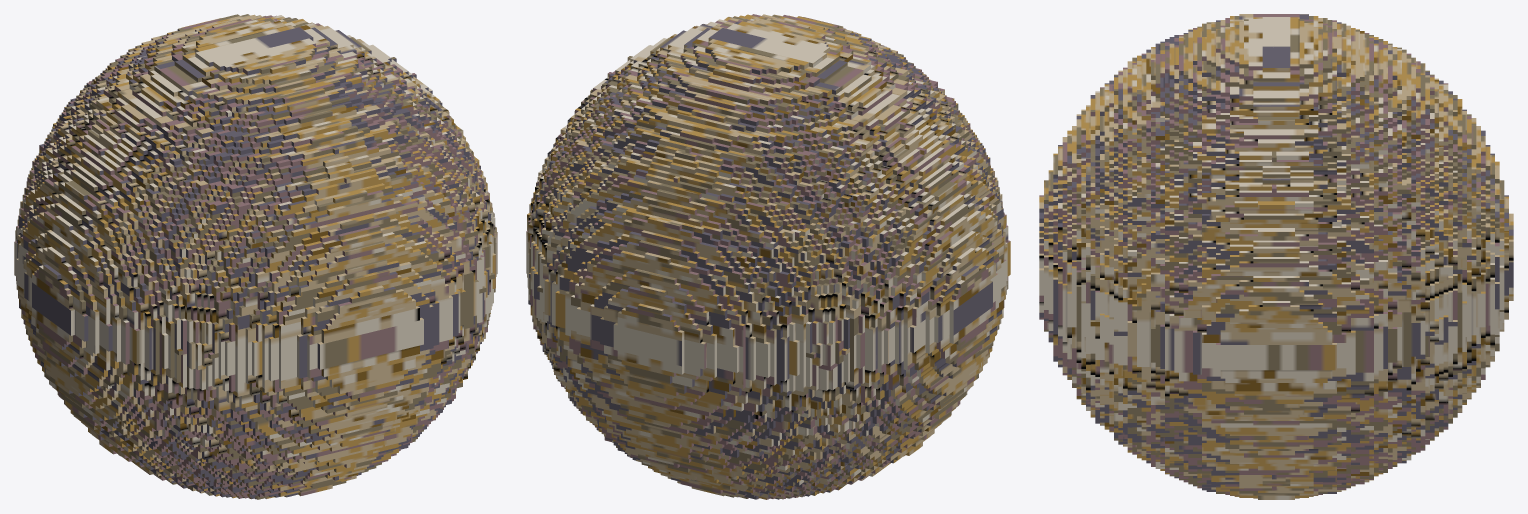
Rendered from Saturn 1.fbx.
3 renders of one model, left to right at view 1: azimuth 30°, elevation 25°; view 2: azimuth 150°, elevation 25°; view 3: azimuth 270°, elevation 25°, orthographic.
Parts seen in each view (by area): view 1: Saturn; view 2: Saturn; view 3: Saturn.
Part boxes in pixels (x1,y1,x2,y2): Saturn: (14,14,497,499); Saturn: (526,14,1010,499); Saturn: (1039,14,1513,499).
Size of the model in its own units: 102 by 102 by 102.
1 material, 1 textured.
